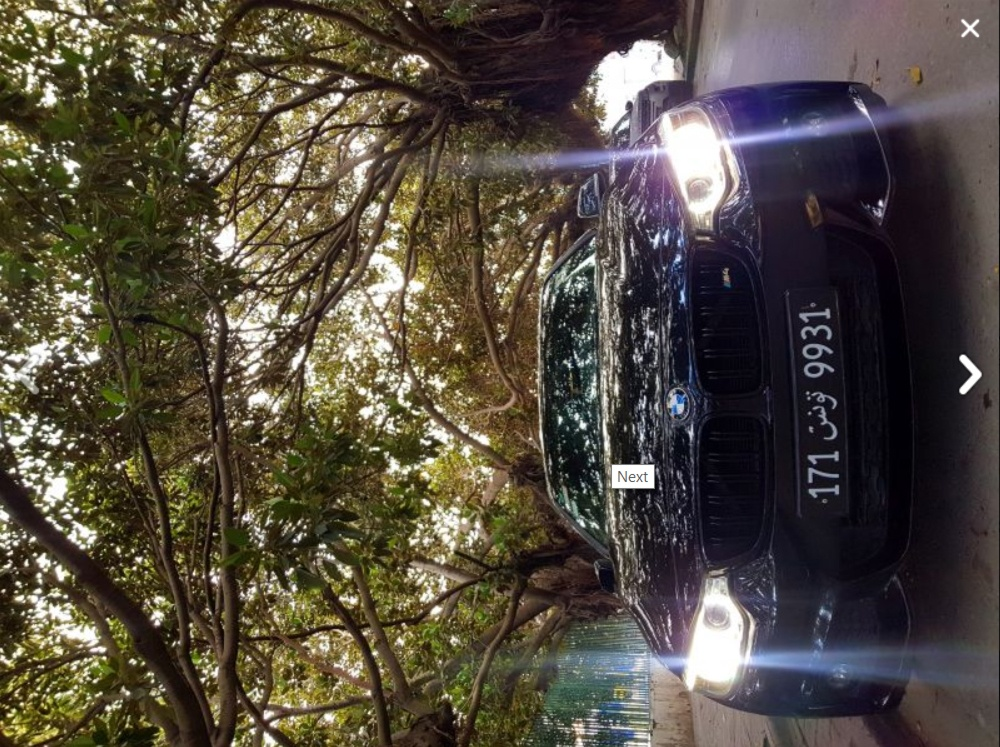LP: (785, 282, 869, 526)
